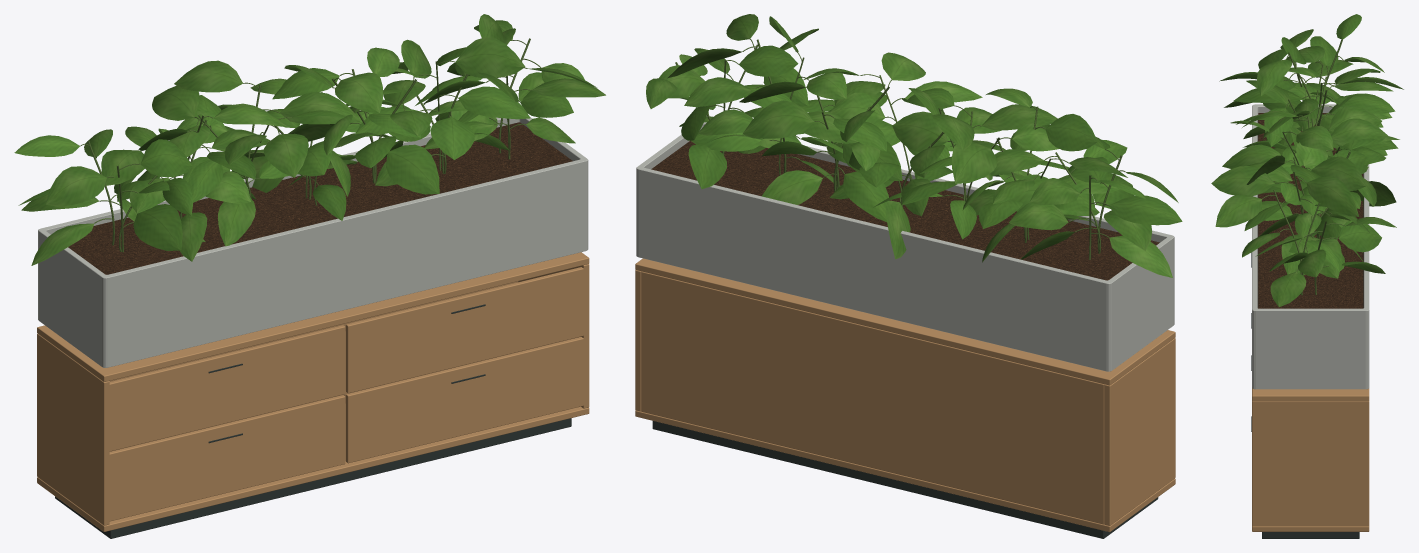
The model's file is botanicalDivider-11.glb.
3 renders of one model, left to right at view 1: azimuth 30°, elevation 25°; view 2: azimuth 150°, elevation 25°; view 3: azimuth 270°, elevation 25°, orthographic. The views are drawn at different scales.
Visible parts, largest first — view 1: StoragePlanter_Drawer (×4), Planter_pothos_leaves, Planter_oiled_oak, Planter_loose_soil, StoragePlanter_Side (×2), StoragePlanter_Top, StoragePlanter_Bottom, StoragePlanter_Plinth, Planter_pothos_stems, StoragePlanter_Back; view 2: StoragePlanter_Back, Planter_pothos_leaves, Planter_oiled_oak, Planter_loose_soil, StoragePlanter_Side (×2), StoragePlanter_Top, StoragePlanter_Plinth, StoragePlanter_Bottom, Planter_pothos_stems; view 3: Planter_pothos_leaves, StoragePlanter_Side, Planter_oiled_oak, Planter_loose_soil, Planter_pothos_stems, StoragePlanter_Top, StoragePlanter_Bottom, StoragePlanter_Plinth.
Part boxes in pixels (box(x1,y1,x2,y2)): StoragePlanter_Drawer (×4): box(109, 267, 584, 521); Planter_pothos_leaves: box(14, 14, 605, 265); Planter_oiled_oak: box(38, 117, 588, 367); Planter_loose_soil: box(68, 122, 572, 274); StoragePlanter_Side (×2): box(37, 264, 589, 525); StoragePlanter_Top: box(37, 252, 589, 381); StoragePlanter_Bottom: box(37, 403, 589, 531); StoragePlanter_Plinth: box(55, 418, 571, 538); Planter_pothos_stems: box(80, 38, 541, 252); StoragePlanter_Back: box(109, 281, 518, 402); StoragePlanter_Back: box(641, 271, 1104, 524); Planter_pothos_leaves: box(646, 14, 1182, 277); Planter_oiled_oak: box(636, 122, 1174, 371); Planter_loose_soil: box(651, 140, 1159, 280); StoragePlanter_Side (×2): box(635, 270, 1175, 525); StoragePlanter_Top: box(635, 258, 1175, 385); StoragePlanter_Plinth: box(652, 421, 1158, 538); StoragePlanter_Bottom: box(635, 410, 1175, 532); Planter_pothos_stems: box(675, 39, 1125, 259); Planter_pothos_leaves: box(1211, 14, 1403, 307); StoragePlanter_Side: box(1252, 401, 1369, 526); Planter_oiled_oak: box(1252, 104, 1369, 389); Planter_loose_soil: box(1258, 113, 1363, 308); Planter_pothos_stems: box(1262, 39, 1350, 295); StoragePlanter_Top: box(1252, 388, 1369, 401); StoragePlanter_Bottom: box(1252, 526, 1369, 531); StoragePlanter_Plinth: box(1262, 532, 1359, 538).
Bounding box in the file's own units: 2.26 × 1.58 × 0.7924.
9 materials, 2 textured.
